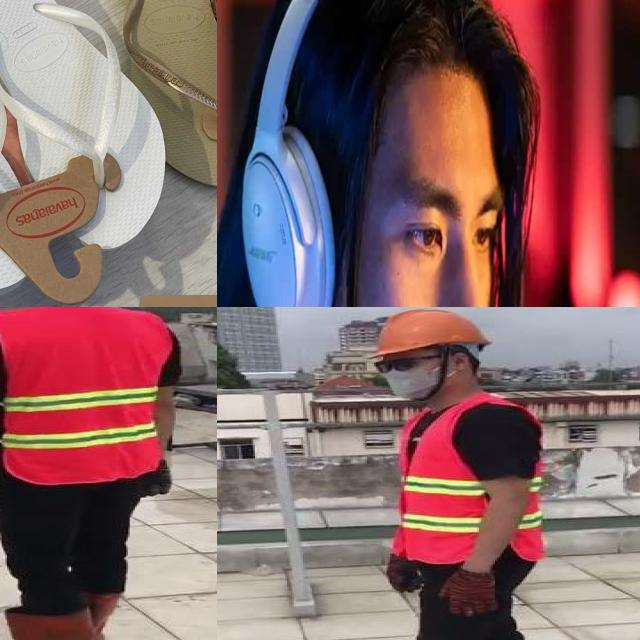Ear-protection: (243, 0, 535, 307)
No_Glasses: (378, 150, 502, 306)
Sandals: (0, 0, 197, 307), (104, 0, 217, 213)
boots: (0, 609, 90, 640)
face_mask: (374, 354, 440, 398)
glasses: (368, 354, 425, 374)
hand_glove: (436, 569, 498, 615), (387, 561, 422, 595), (138, 465, 170, 499)
head_helmet: (374, 308, 492, 356)
person: (353, 307, 554, 640), (0, 307, 178, 640)
vest: (0, 307, 170, 480), (392, 400, 552, 561)
